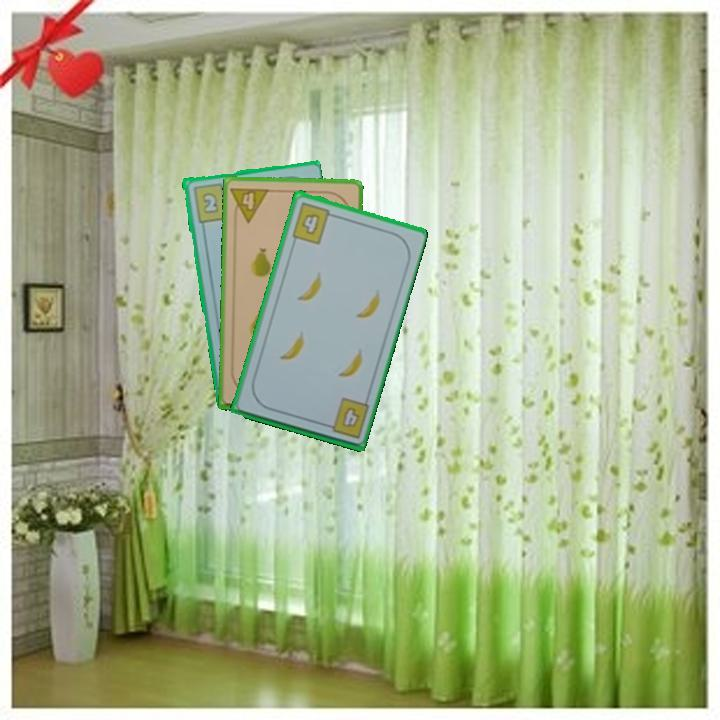2b: (189, 179, 232, 225)
4b: (320, 394, 372, 441), (288, 198, 338, 246)
4p: (227, 183, 272, 225)
